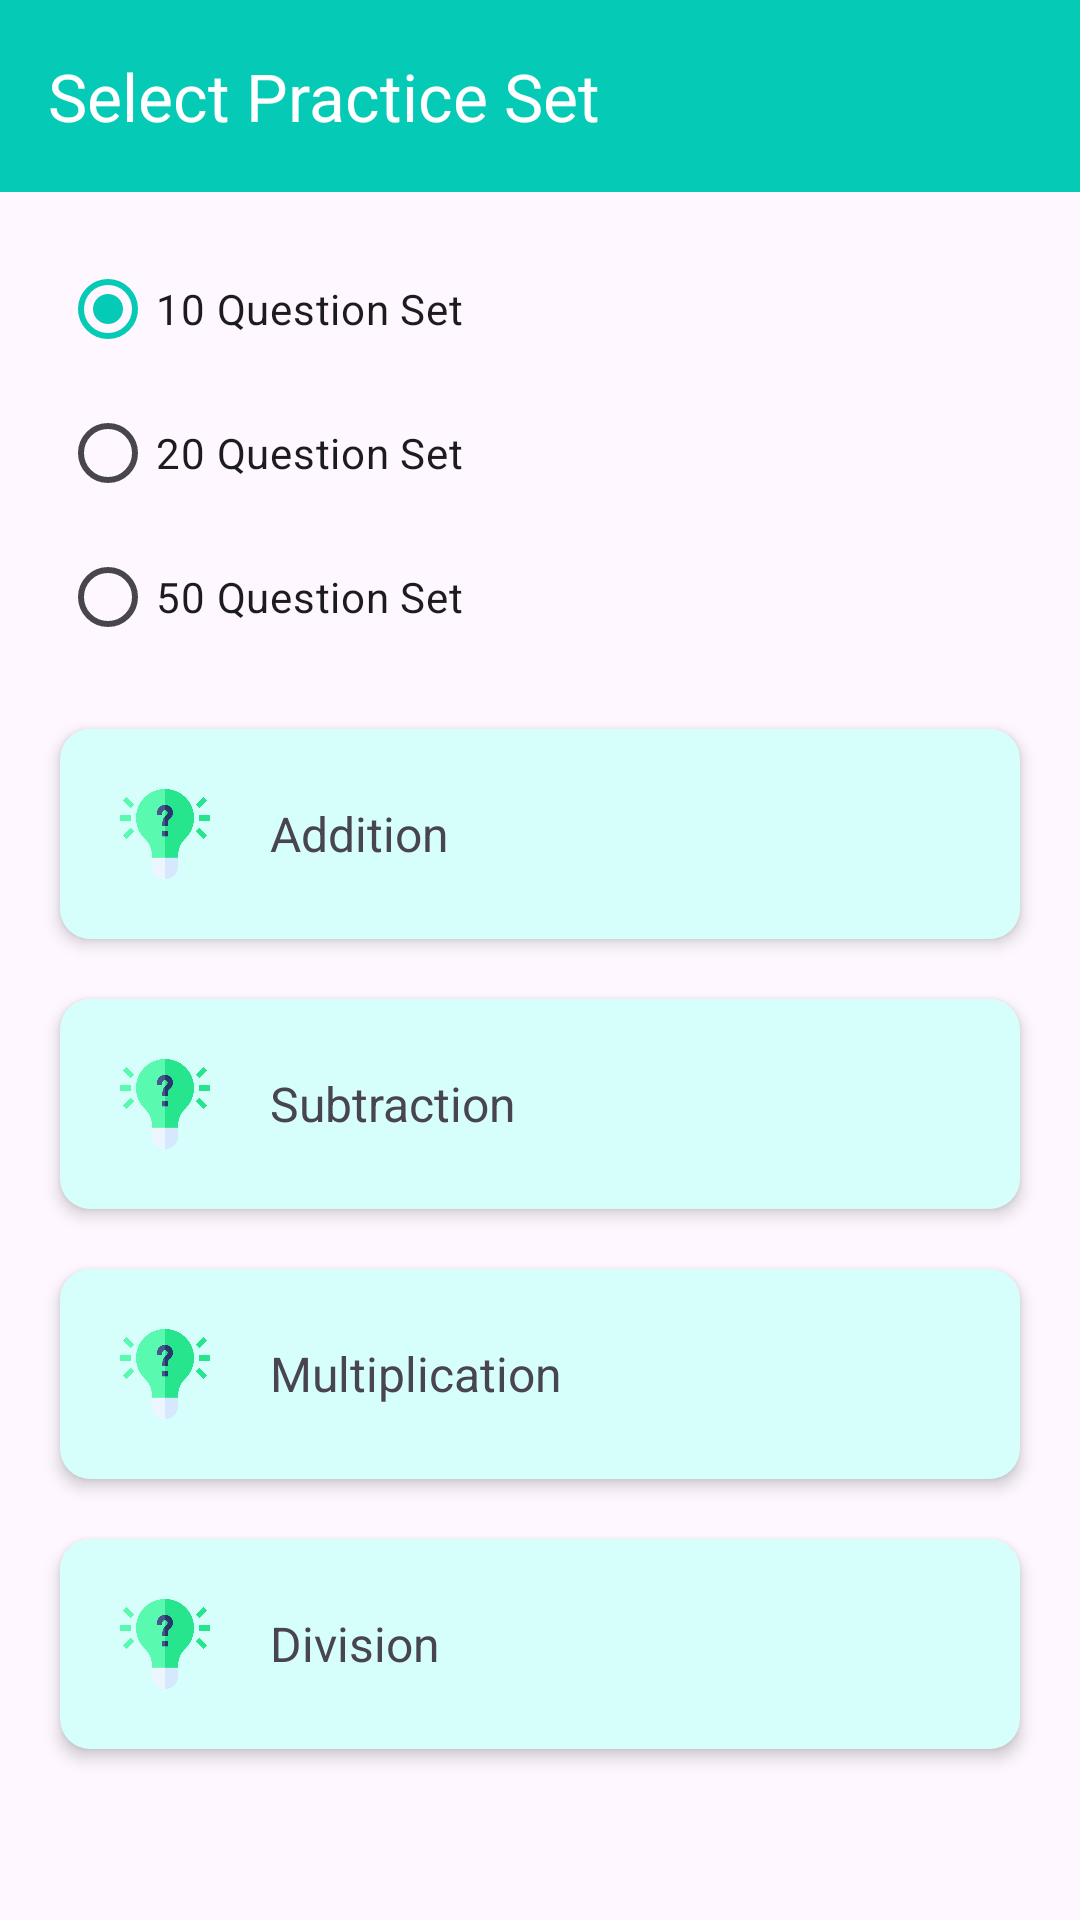

Icons on this 1080 × 1920 Android screen, each with its box as detection(x1, y1, x2, y2):
ideas: detection(120, 789, 210, 858), detection(120, 1059, 210, 1128), detection(120, 1329, 210, 1398), detection(120, 1599, 210, 1668)
